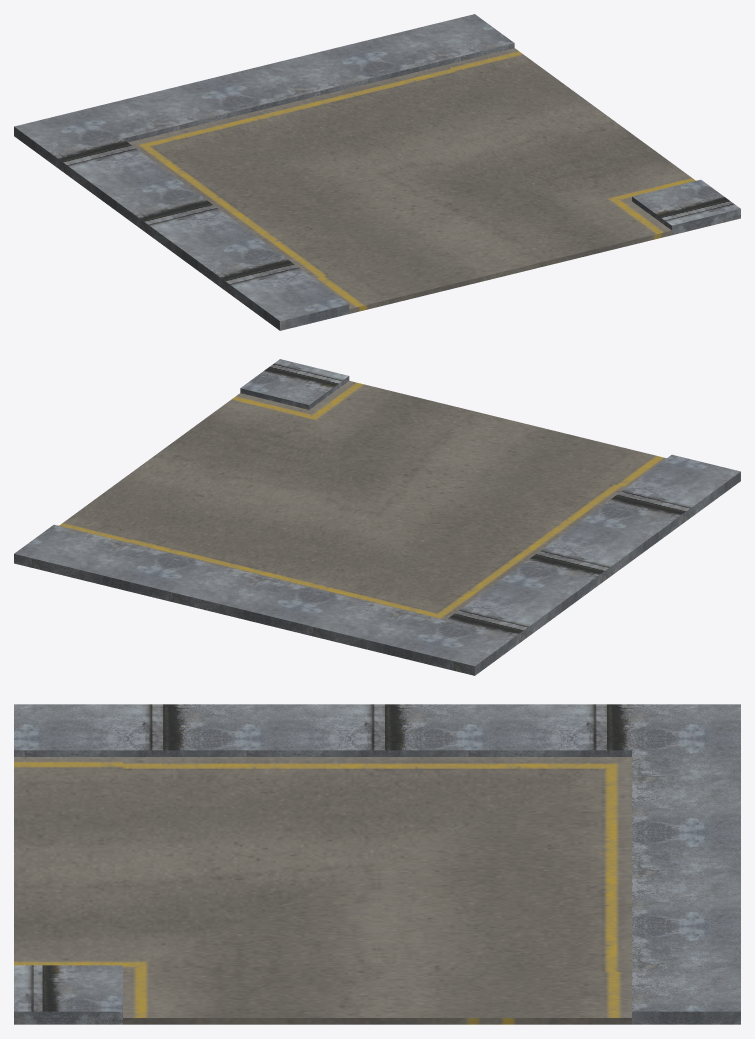
Rendered from Urban_Road2Corner_Model.fbx.
The picture shows the model from 3 angles, top to bottom: view 1: azimuth 30°, elevation 25°; view 2: azimuth 150°, elevation 25°; view 3: azimuth 270°, elevation 25°; orthographic projection. The views are drawn at different scales.
Visible parts, largest first — view 1: Urban_Road2Corner_Mesh; view 2: Urban_Road2Corner_Mesh; view 3: Urban_Road2Corner_Mesh.
Part boxes in pixels (x1,y1,x2,y2): Urban_Road2Corner_Mesh: [14, 14, 740, 330]; Urban_Road2Corner_Mesh: [14, 359, 740, 675]; Urban_Road2Corner_Mesh: [14, 704, 740, 1024].
Size of the model in its own units: 16 by 0.32 by 16.
